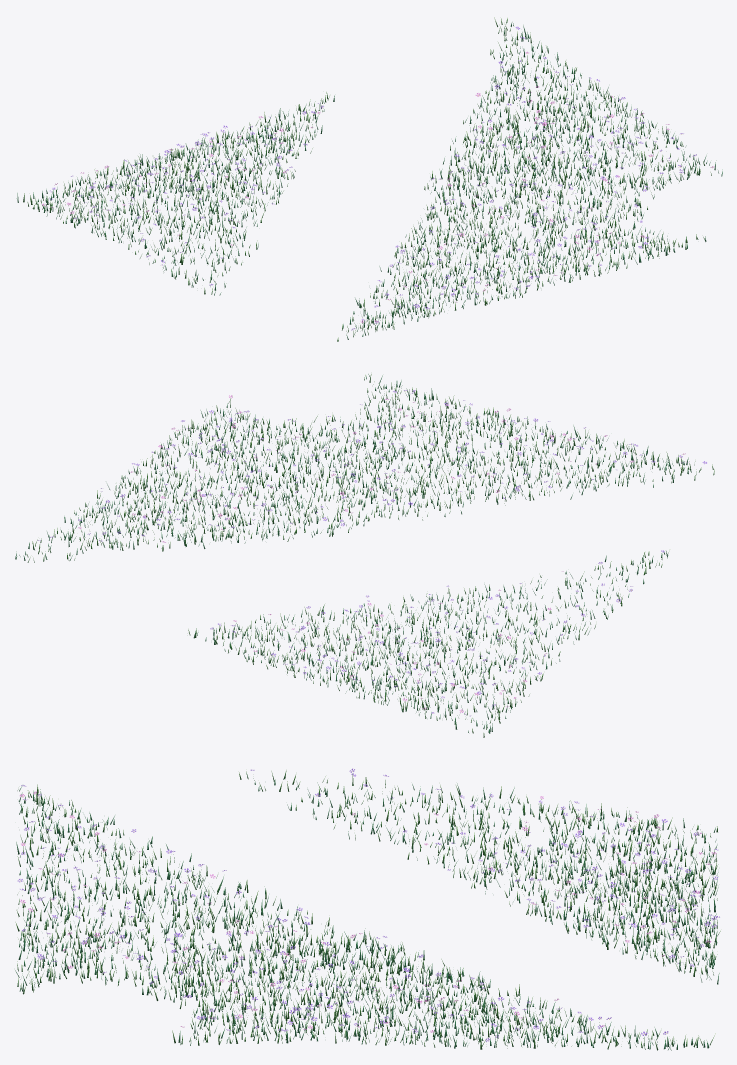
The picture shows the model from 3 angles, top to bottom: view 1: azimuth 30°, elevation 25°; view 2: azimuth 150°, elevation 25°; view 3: azimuth 270°, elevation 25°; orthographic projection. The views are drawn at different scales.
Parts seen in each view (by area): view 1: gc_28; view 2: gc_28; view 3: gc_28.
Boxes of the visible parts, x1=… form: gc_28: x1=16, y1=17, x2=722, y2=341; gc_28: x1=15, y1=374, x2=714, y2=737; gc_28: x1=15, y1=768, x2=720, y2=1050.
Size of the model in its own units: 18.21 by 2.82 by 18.21.
1 material, 1 textured.
